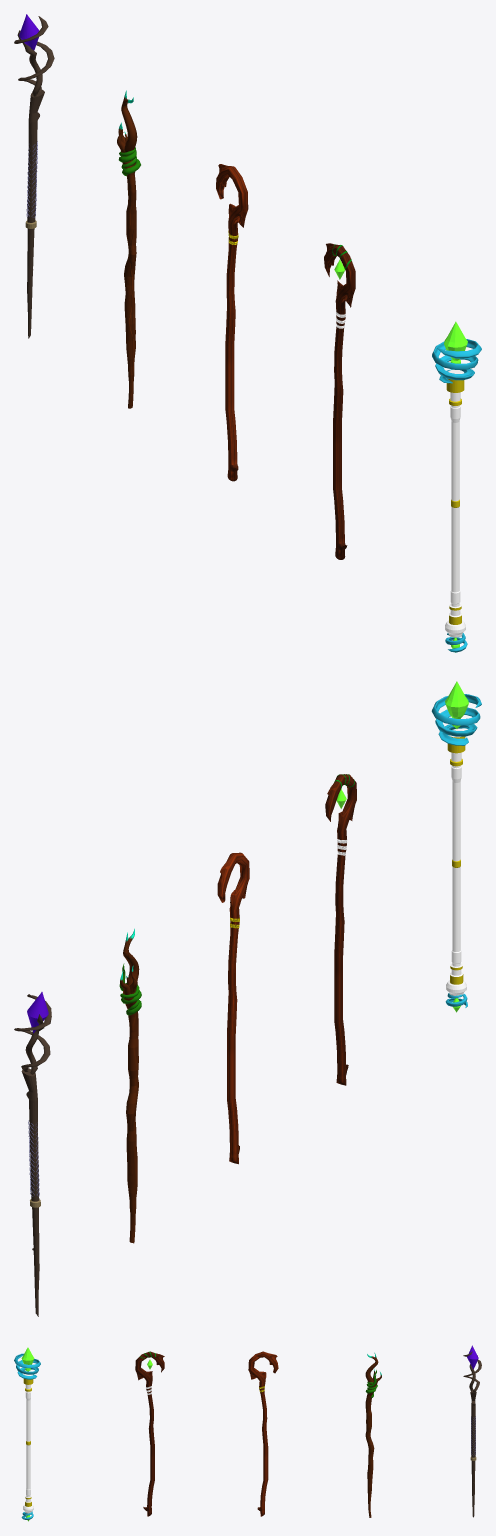
File: magic_staffs_basic_bundle.glb
The picture shows the model from 3 angles, top to bottom: view 1: azimuth 30°, elevation 25°; view 2: azimuth 150°, elevation 25°; view 3: azimuth 270°, elevation 25°; orthographic projection. The views are drawn at different scales.
Visible parts, largest first — view 1: Staff3, Staff1, Staff2, Oak Staff, Staff; view 2: Staff3, Staff2, Staff1, Staff, Oak Staff; view 3: Staff3, Staff1, Staff2, Staff, Oak Staff.
Boxes of the visible parts, x1=… form: Staff3: x1=432, y1=321, x2=481, y2=652; Staff1: x1=216, y1=164, x2=248, y2=481; Staff2: x1=324, y1=243, x2=355, y2=559; Oak Staff: x1=14, y1=16, x2=54, y2=338; Staff: x1=117, y1=90, x2=137, y2=408; Staff3: x1=431, y1=681, x2=481, y2=1012; Staff2: x1=325, y1=774, x2=356, y2=1085; Staff1: x1=217, y1=852, x2=249, y2=1164; Staff: x1=120, y1=928, x2=139, y2=1243; Oak Staff: x1=14, y1=994, x2=51, y2=1316; Staff3: x1=14, y1=1347, x2=40, y2=1521; Staff1: x1=248, y1=1351, x2=278, y2=1516; Staff2: x1=135, y1=1351, x2=164, y2=1516; Staff: x1=365, y1=1352, x2=381, y2=1517; Oak Staff: x1=463, y1=1351, x2=481, y2=1517.
Bounding box in the file's own units: 1.28 × 9.47 × 23.01.
Materials: 17 (1 with a texture image).
